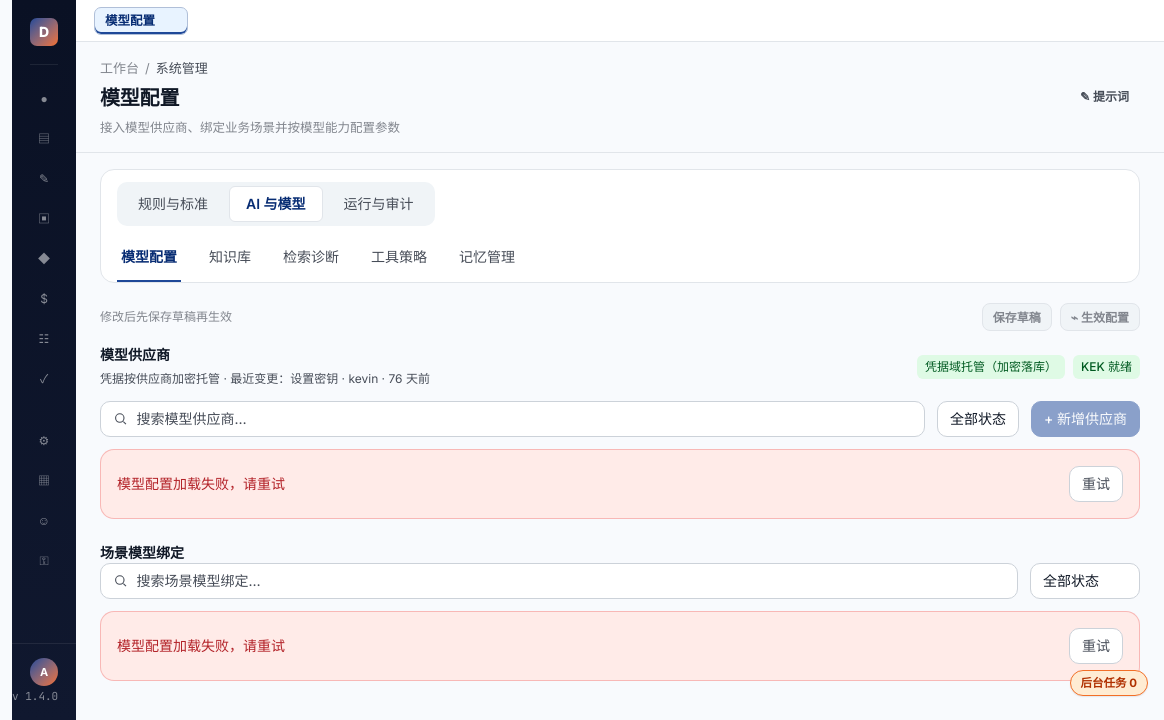
Scenario: ModelConfig · 表格 + 行详情（RP-053） › 模型读取失败明确报错且可重试，不把默认表格当生效配置
The image size is (1164, 720).
Click the button "重试" below "凭据域托管（加密落库）" at (1096, 484), box [1069,466,1123,502]
(page scrolled)
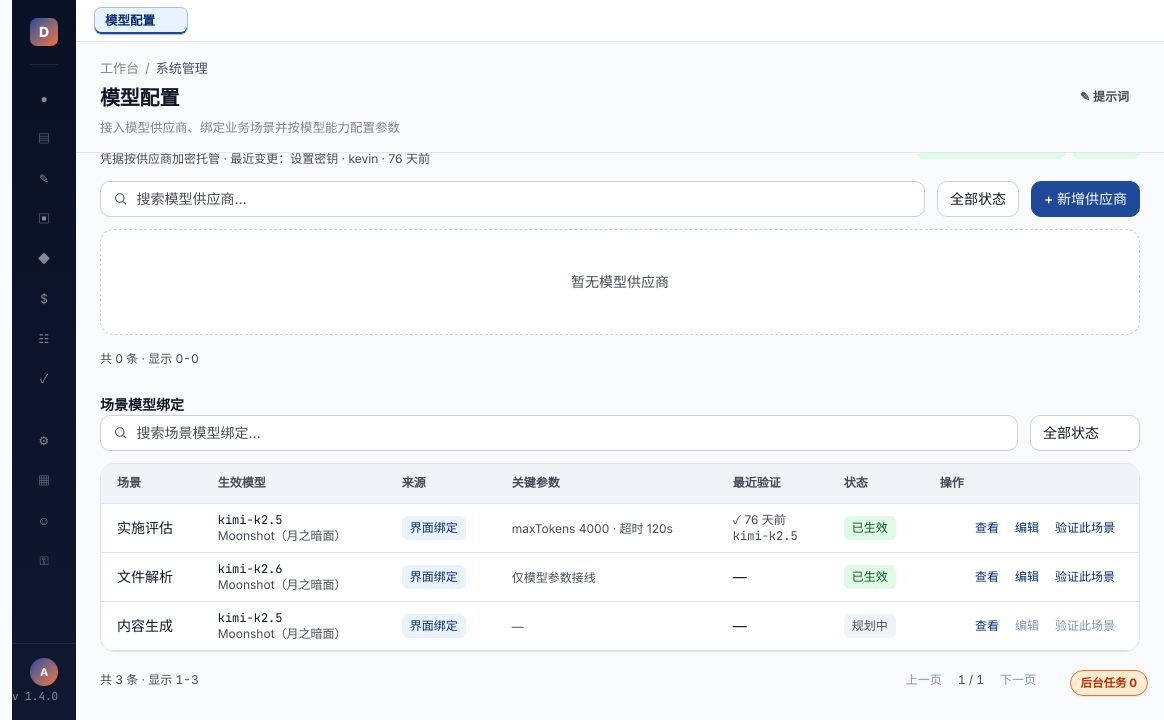
Expected: the table named "场景模型绑定" is shown, [101,464,1139,651]
